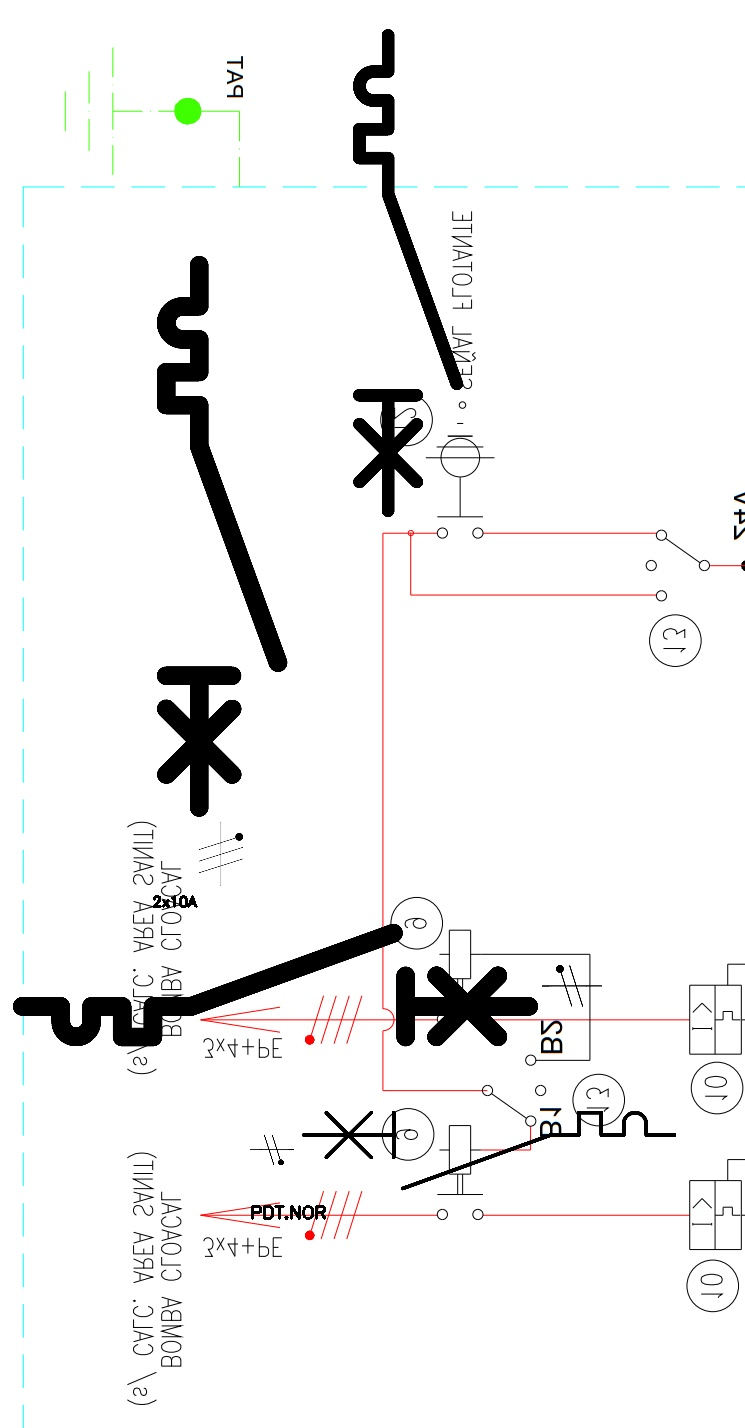interruptor_termomagnetico: (152, 251, 291, 821), (9, 920, 541, 1050), (347, 23, 469, 523), (294, 1103, 684, 1198)
